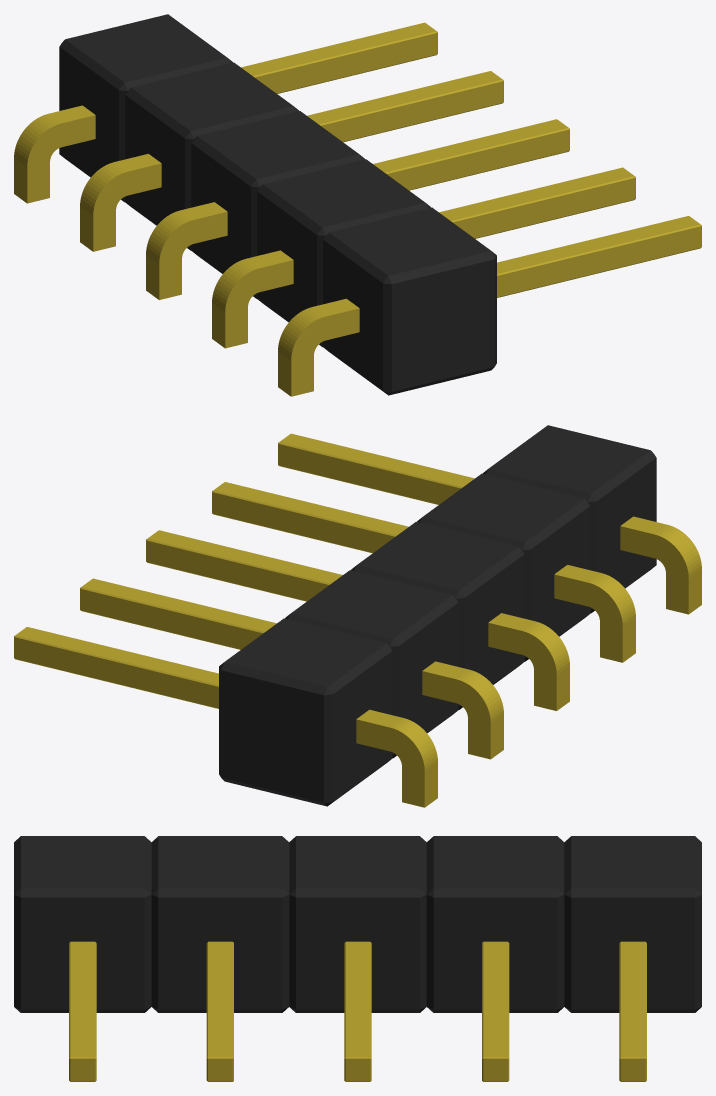
Rendered from 5SIP100B.glb.
3 views of the same model, one above another, from view 1: azimuth 30°, elevation 25°; view 2: azimuth 150°, elevation 25°; view 3: azimuth 270°, elevation 25° (orthographic). The views are drawn at different scales.
Parts seen in each view (by area): view 1: Plane; view 2: Plane; view 3: Plane.
Boxes of the visible parts, x1,y1,x2,y2 form: Plane: (14,14,701,396); Plane: (14,425,701,807); Plane: (14,836,701,1081).
Bounding box in the file's own units: 0.00914 × 0.00254 × 0.0127.
